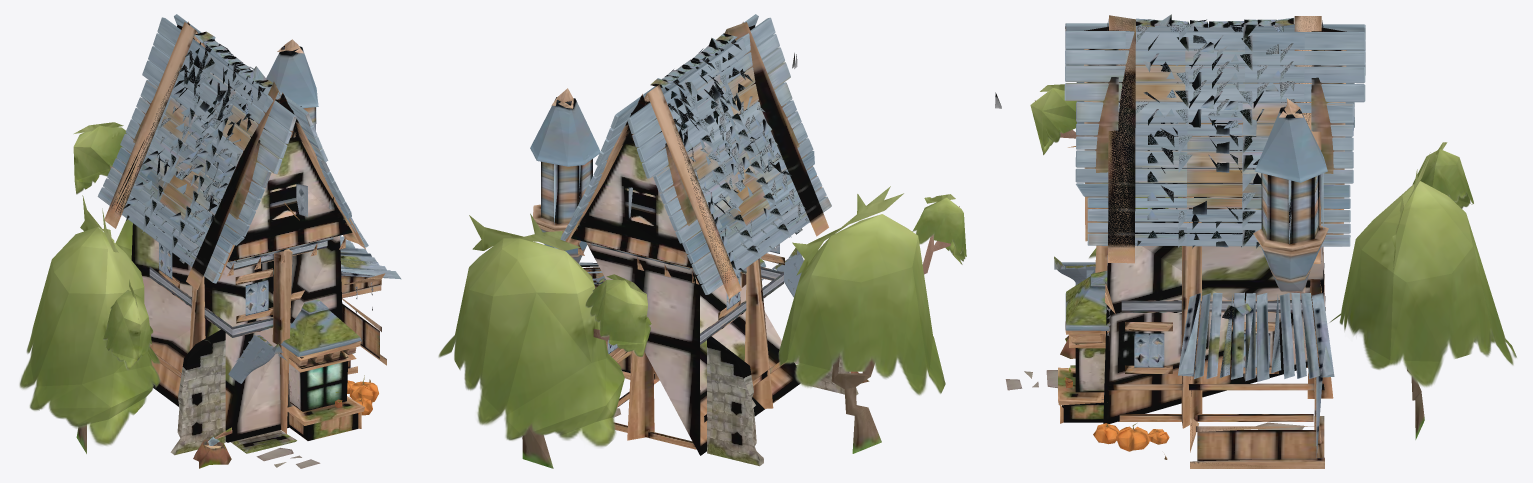
File: BLD_HouseA_lod.glb
3 renders of one model, left to right at view 1: azimuth 30°, elevation 25°; view 2: azimuth 150°, elevation 25°; view 3: azimuth 270°, elevation 25°, orthographic. The views are drawn at different scales.
Visible parts, largest first — view 1: House_H6_0, Tree_tree_0, House_H5_0, House_H2_0, House_H4_0, Rope_Rope_0, House_H1_0, House_H7_0, House_H3_0, pump_pumk_0, souche hache_souche_0, R 5_Stone_0; view 2: Tree_tree_0, House_H6_0, House_H5_0, House_H4_0, Rope_Rope_0, House_H1_0, House_H7_0, House_H3_0; view 3: House_H6_0, Tree_tree_0, House_H1_0, House_H5_0, House_H4_0, House_H2_0, pump_pumk_0, House_H3_0, R 5_Stone_0.
Part boxes in pixels (left/top/right/bottom): House_H6_0: left=97, top=14, right=368, bottom=289; Tree_tree_0: left=19, top=122, right=160, bottom=453; House_H5_0: left=131, top=223, right=342, bottom=442; House_H2_0: left=279, top=299, right=364, bottom=440; House_H4_0: left=149, top=241, right=385, bottom=433; Rope_Rope_0: left=187, top=21, right=352, bottom=262; House_H1_0: left=266, top=39, right=401, bottom=374; House_H7_0: left=170, top=329, right=225, bottom=455; House_H3_0: left=228, top=335, right=296, bottom=453; pump_pumk_0: left=347, top=375, right=378, bottom=415; souche hache_souche_0: left=193, top=439, right=231, bottom=468; R 5_Stone_0: left=256, top=447, right=320, bottom=468; Tree_tree_0: left=438, top=186, right=966, bottom=468; House_H6_0: left=554, top=14, right=831, bottom=298; House_H5_0: left=586, top=242, right=800, bottom=455; House_H4_0: left=607, top=244, right=784, bottom=449; Rope_Rope_0: left=571, top=22, right=797, bottom=268; House_H1_0: left=530, top=88, right=631, bottom=379; House_H7_0: left=707, top=336, right=858, bottom=466; House_H3_0: left=761, top=248, right=803, bottom=366; House_H6_0: left=1064, top=14, right=1365, bottom=263; Tree_tree_0: left=1030, top=84, right=1517, bottom=439; House_H1_0: left=1178, top=98, right=1334, bottom=468; House_H5_0: left=1103, top=184, right=1325, bottom=423; House_H4_0: left=1095, top=182, right=1333, bottom=428; House_H2_0: left=1058, top=270, right=1109, bottom=423; pump_pumk_0: left=1093, top=420, right=1169, bottom=459; House_H3_0: left=1054, top=256, right=1095, bottom=368; R 5_Stone_0: left=1005, top=370, right=1304, bottom=429.
Size of what is drawn, in the model's own units: 6.41 by 5.4 by 6.56.
14 materials, 14 textured.
